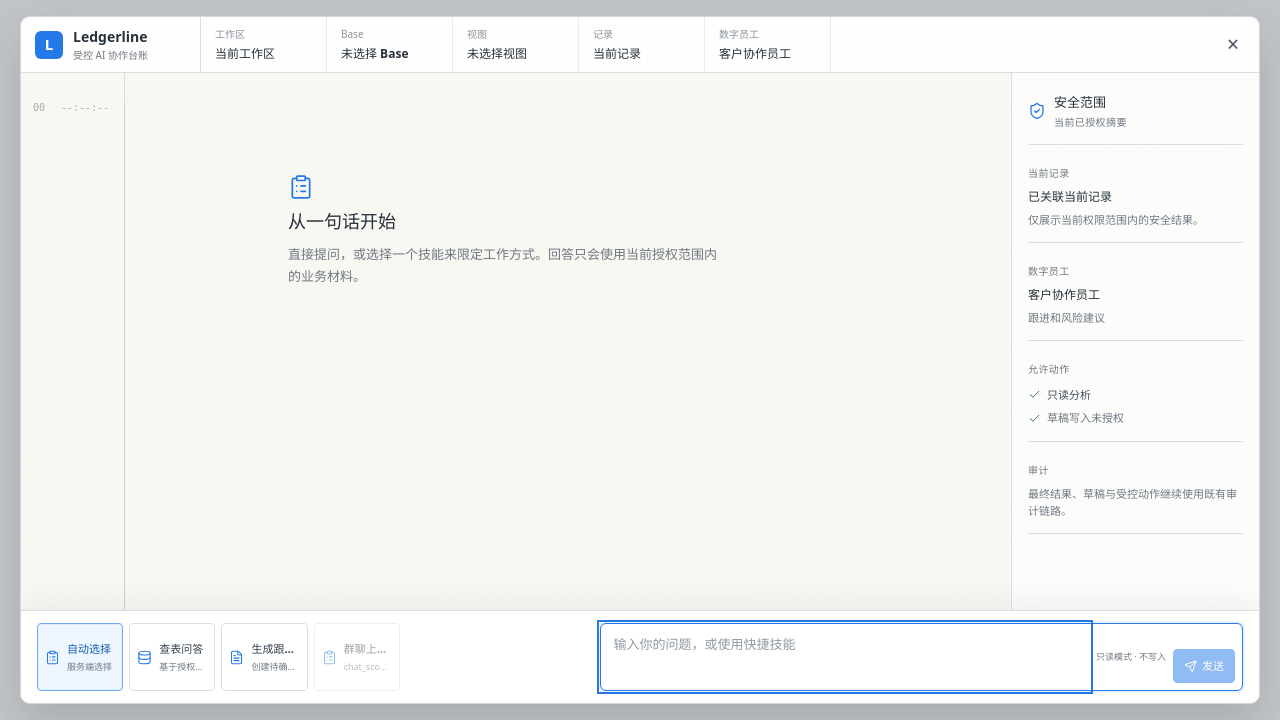
it: refuses an explicit result whose manifest version differs from the selected catalog
This screenshot has width=1280, height=720.
Click the button "查表问答 基于授权记录回答问题" at (172, 657), box [129,623,215,691]
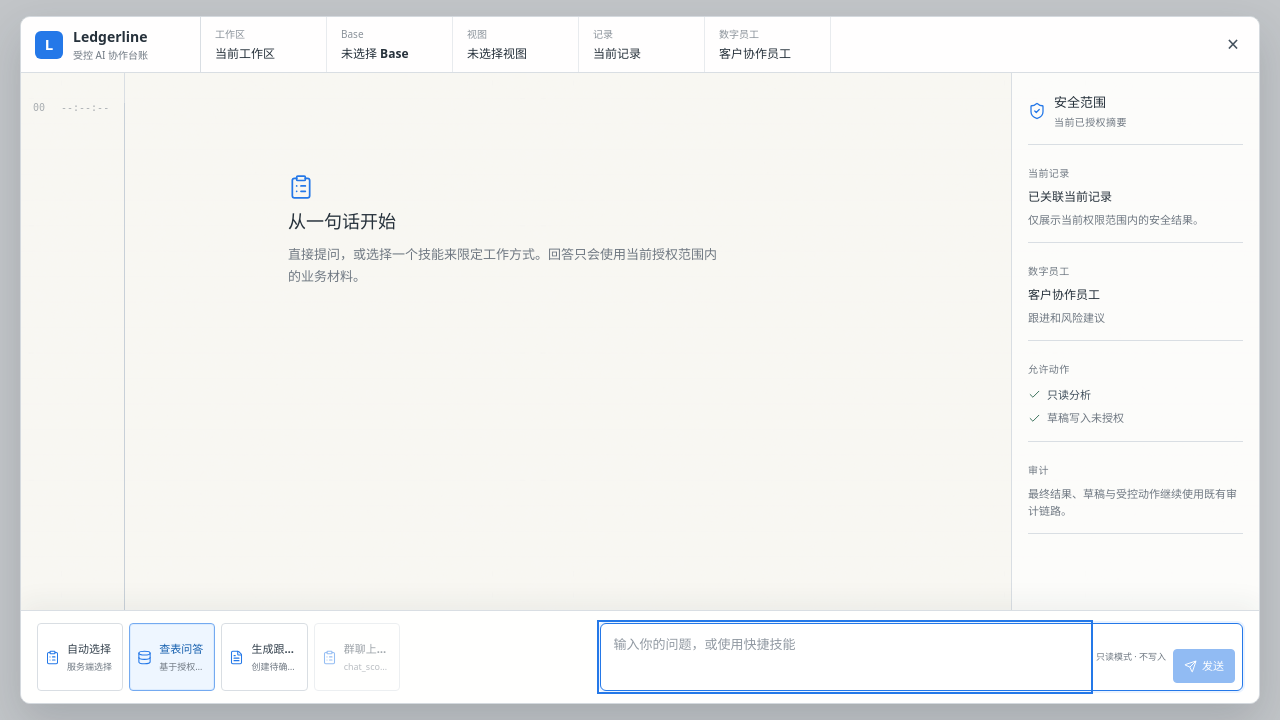
Type "查询当前状态" into the text box named "协作问题" at (845, 657), box [601,624,1089,690]
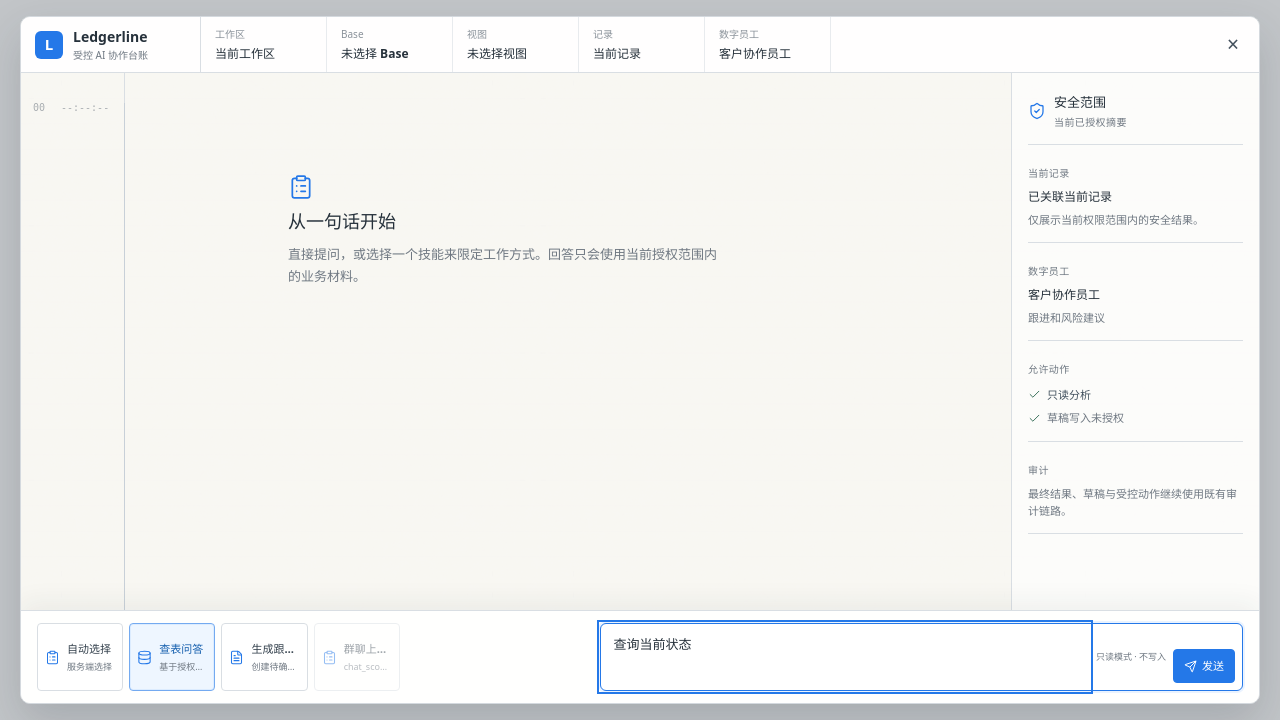
Press Enter in the text box named "协作问题", box [601,624,1089,690]
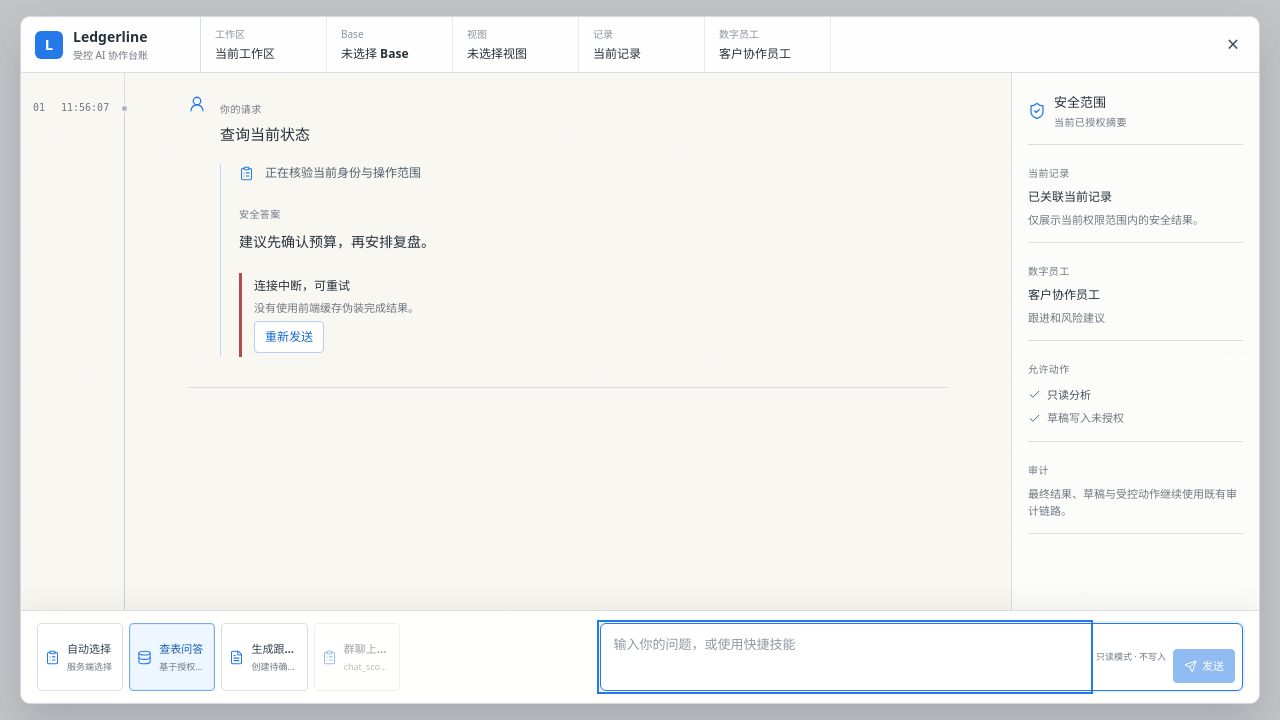
Expected: the text "连接中断，可重试" is shown, [254,277,350,295]
